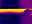Hotspot: (0, 9, 26, 13)
